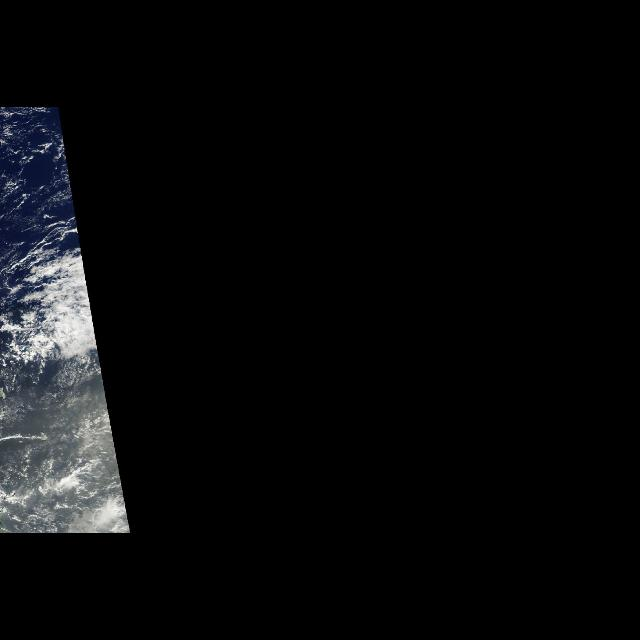Gravel: (4, 109, 78, 261)
